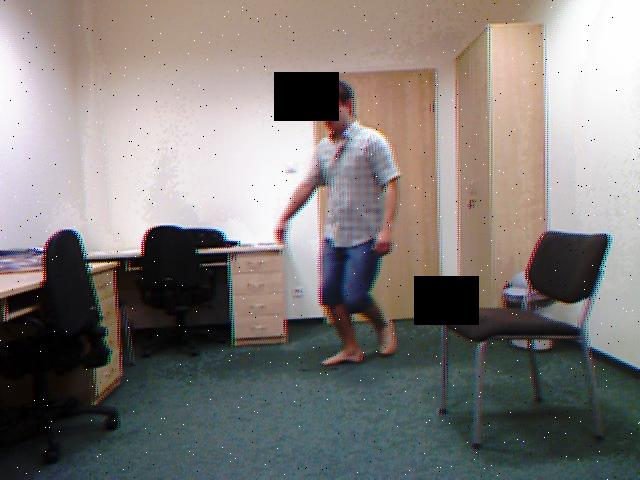near-fall: (263, 70, 423, 374)
